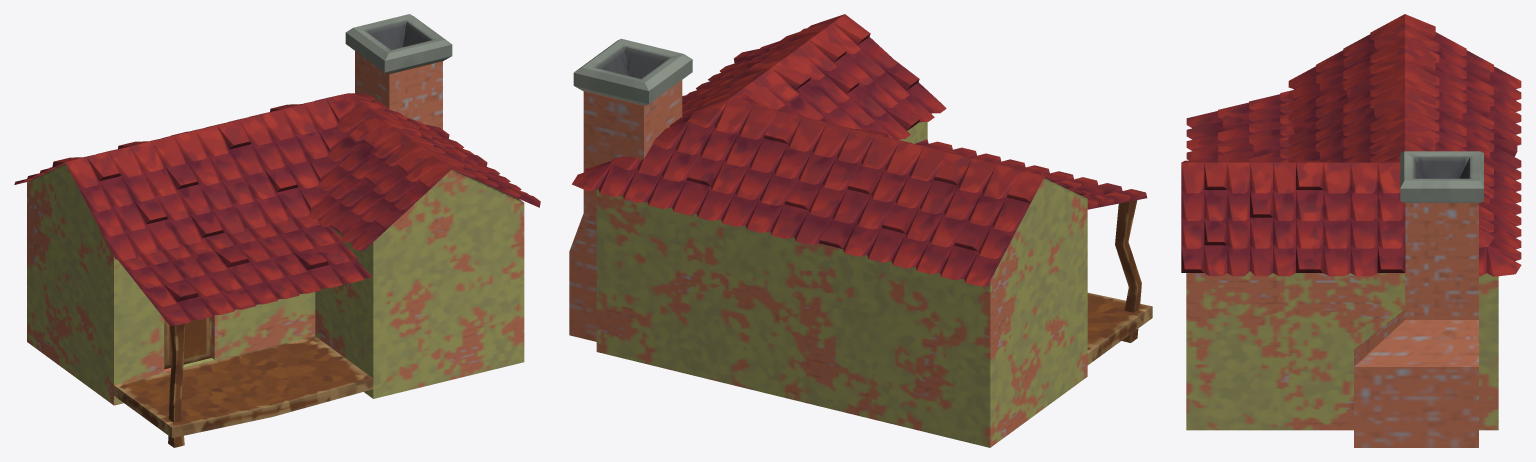
The model's file is ChamneyHouse.fbx.
3 views of the same model, side by side, from view 1: azimuth 30°, elevation 25°; view 2: azimuth 150°, elevation 25°; view 3: azimuth 270°, elevation 25° (orthographic). The views are drawn at different scales.
Visible parts, largest first — view 1: ChamneyHouse; view 2: ChamneyHouse; view 3: ChamneyHouse.
Boxes of the visible parts, <box> form: ChamneyHouse: <box>14,14,540,447</box>; ChamneyHouse: <box>569,14,1152,447</box>; ChamneyHouse: <box>1181,14,1521,447</box>.
Bounding box in the file's own units: 777 × 472 × 545.
